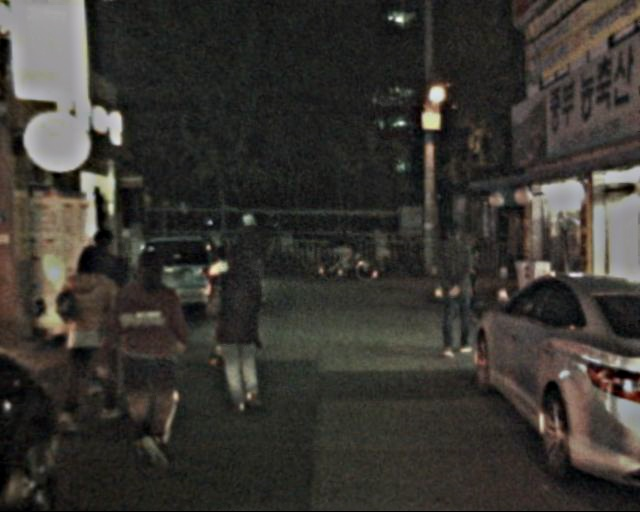person: (110, 236, 194, 469), (54, 248, 130, 420), (202, 235, 273, 418), (75, 227, 140, 382), (431, 214, 484, 361), (234, 205, 279, 315), (328, 222, 355, 276)
